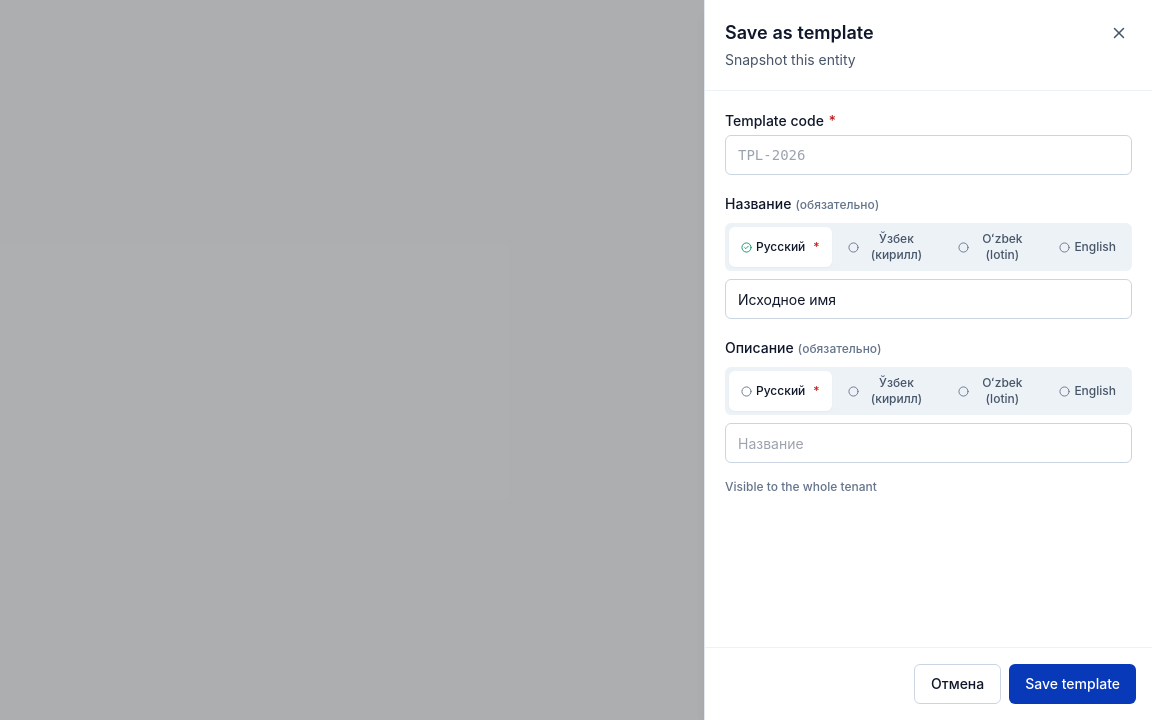
Test: <SaveAsTemplateDrawer /> (shared) › falls back to a backend field-level code error when not a duplicate conflict
Type "bad code" into the field with test id "fake-save-template-code" at (928, 155), box top-left (725, 135), bottom-right (1132, 175)
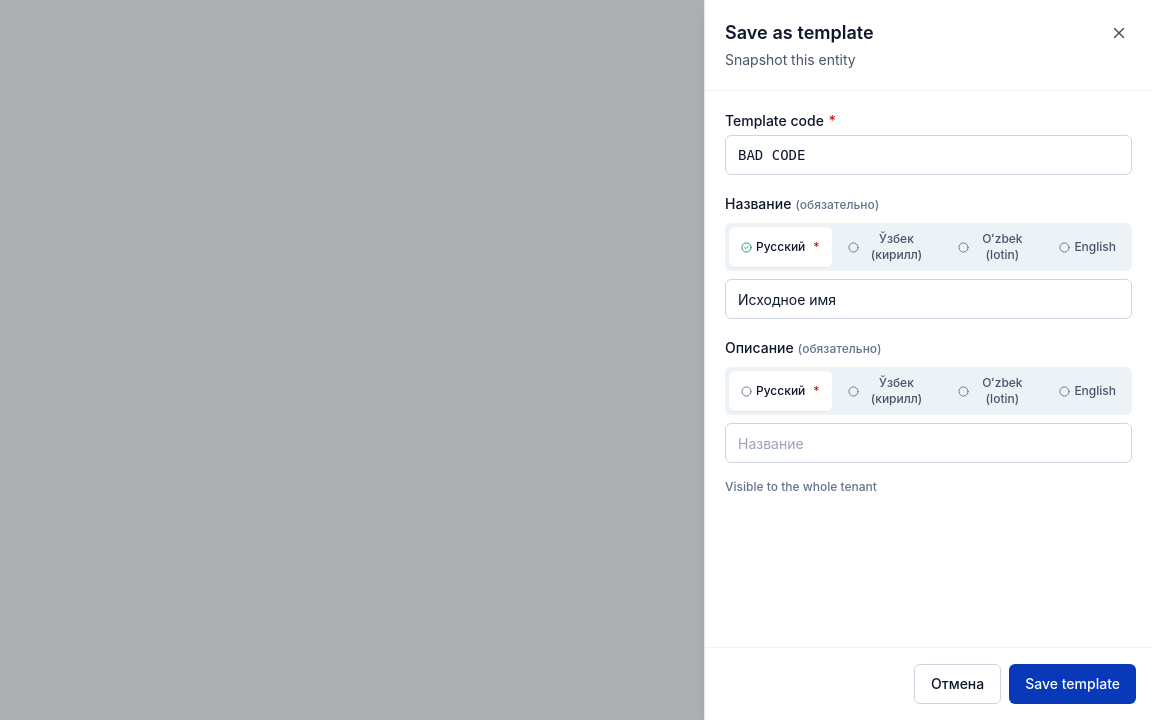
Click the button "Save template" at (1073, 684), box top-left (1009, 664), bottom-right (1136, 704)
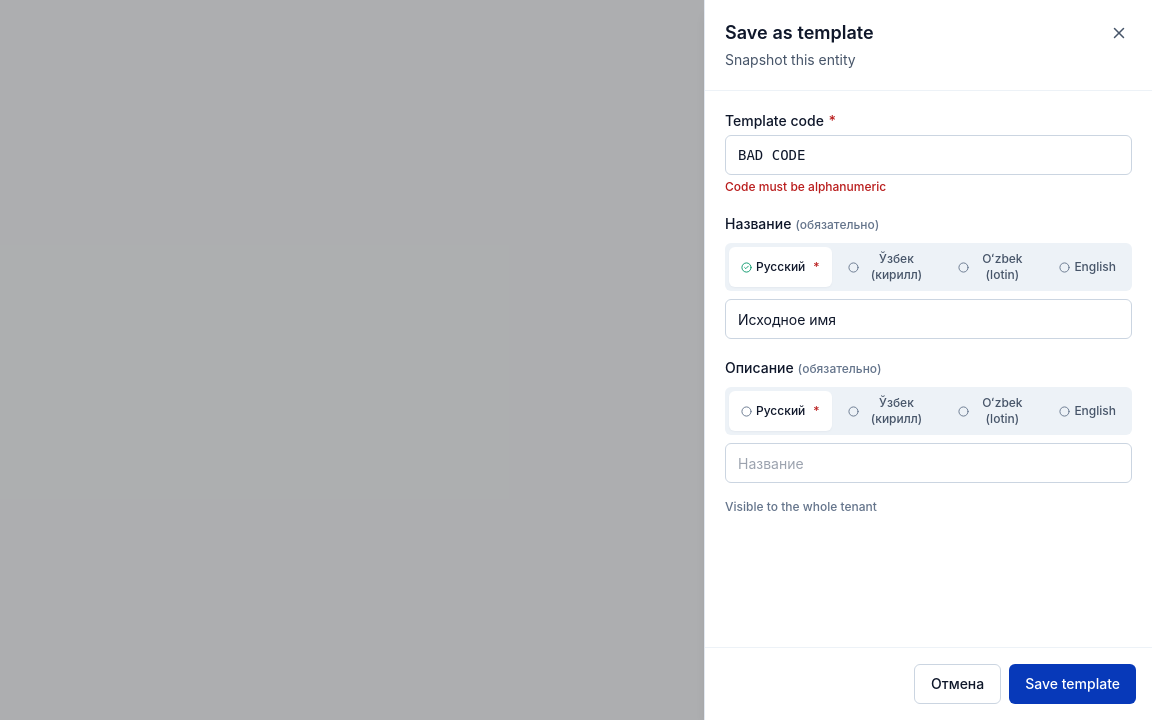
Expected: the message with test id "fake-save-template-code-error" reads "Code must be alphanumeric", top-left (725, 179), bottom-right (886, 194)
